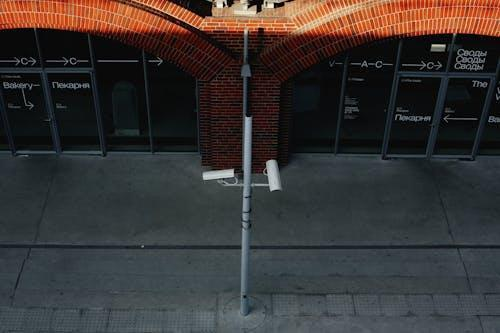camera: (198, 143, 242, 203), (252, 147, 294, 206)
